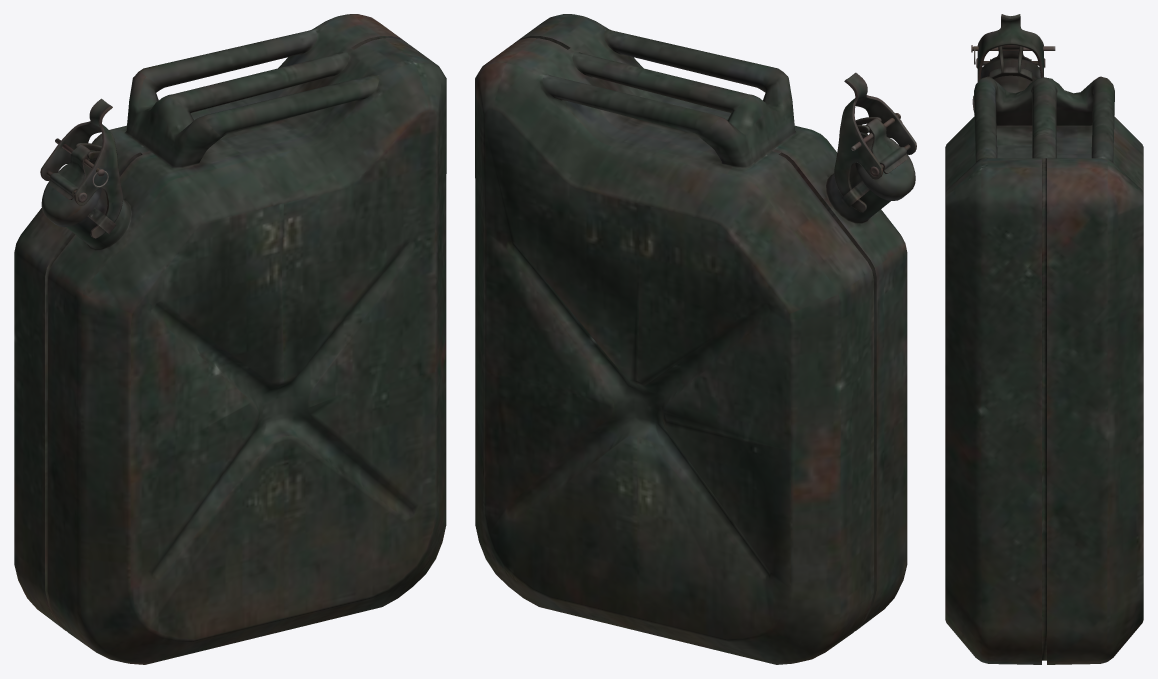
Rendered from jerrycan.glb.
3 views of the same model, side by side, from view 1: azimuth 30°, elevation 25°; view 2: azimuth 150°, elevation 25°; view 3: azimuth 270°, elevation 25° (orthographic). The views are drawn at different scales.
Visible parts, largest first — view 1: metal_jerrycan_green_body, metal_jerrycan_green_latch, metal_jerrycan_green_cap; view 2: metal_jerrycan_green_body, metal_jerrycan_green_latch, metal_jerrycan_green_cap; view 3: metal_jerrycan_green_body, metal_jerrycan_green_latch, metal_jerrycan_green_cap, metal_jerrycan_green_fastener.
Boxes of the visible parts, x1=… form: metal_jerrycan_green_body: x1=14, y1=14, x2=446, y2=664; metal_jerrycan_green_latch: x1=40, y1=98, x2=122, y2=238; metal_jerrycan_green_cap: x1=41, y1=144, x2=101, y2=227; metal_jerrycan_green_body: x1=475, y1=14, x2=907, y2=664; metal_jerrycan_green_latch: x1=834, y1=72, x2=916, y2=212; metal_jerrycan_green_cap: x1=855, y1=118, x2=915, y2=200; metal_jerrycan_green_body: x1=945, y1=75, x2=1143, y2=664; metal_jerrycan_green_latch: x1=976, y1=14, x2=1045, y2=81; metal_jerrycan_green_cap: x1=980, y1=45, x2=1040, y2=79; metal_jerrycan_green_fastener: x1=989, y1=46, x2=1032, y2=81.
Size of the model in its own units: 0.3245 by 0.45 by 0.1538.
Materials: 1 (1 with a texture image).
